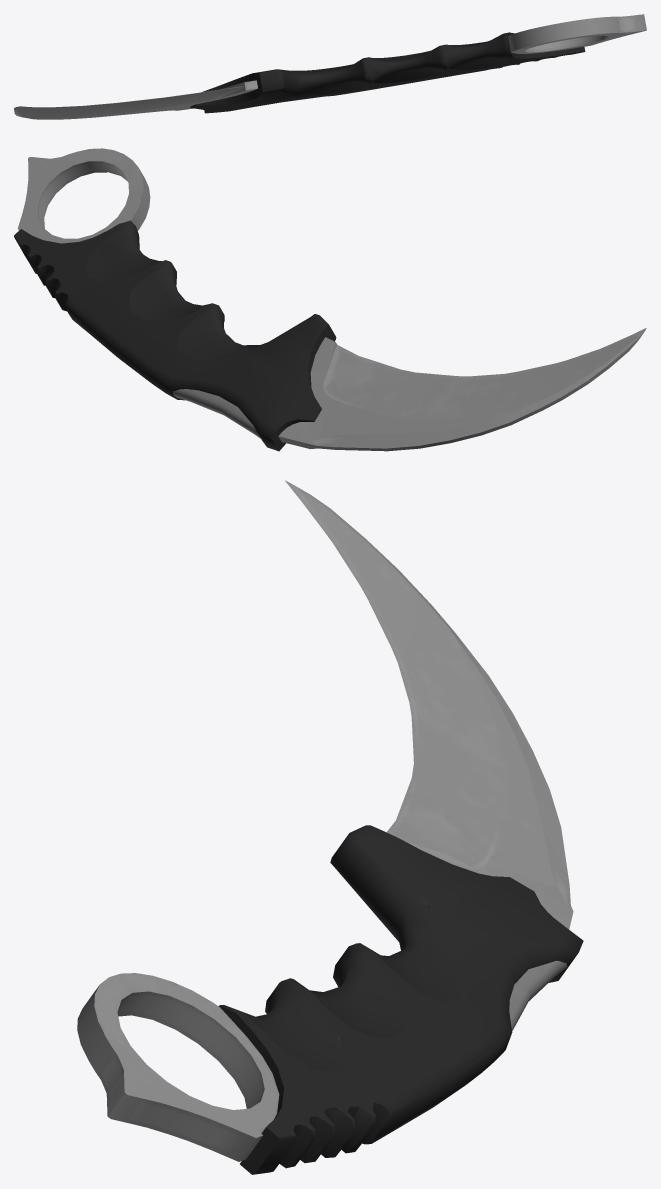
File: Karambit_FP.glb
3 views of the same model, one above another, from view 1: azimuth 30°, elevation 25°; view 2: azimuth 150°, elevation 25°; view 3: azimuth 270°, elevation 25° (orthographic). The views are drawn at different scales.
Visible parts, largest first — view 1: Karambit_upd; view 2: Karambit_upd; view 3: Karambit_upd.
Boxes of the visible parts, x1,y1,x2,y2 form: Karambit_upd: [14, 14, 646, 119]; Karambit_upd: [14, 148, 646, 451]; Karambit_upd: [77, 480, 583, 1174].
Size of the model in its own units: 0.1819 by 0.0358 by 0.0682.
Materials: 1 (1 with a texture image).
